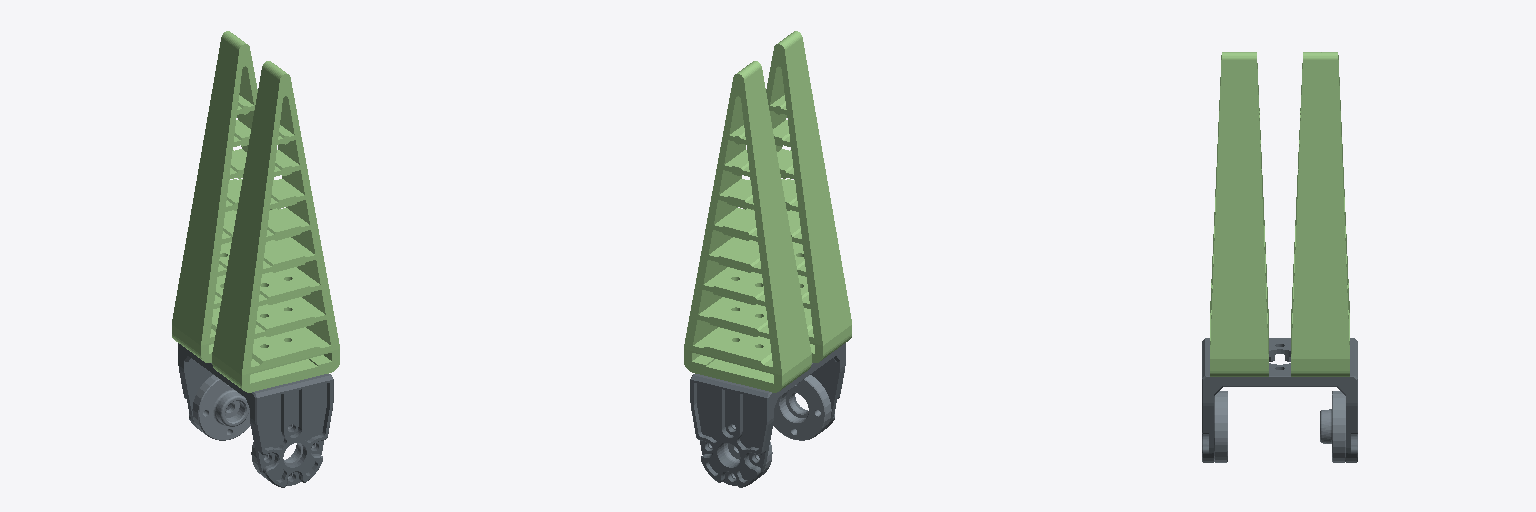
File: Fingers.obj
3 renders of one model, left to right at view 1: azimuth 30°, elevation 25°; view 2: azimuth 150°, elevation 25°; view 3: azimuth 270°, elevation 25°, orthographic.
Visible parts, largest first — view 1: mesh20, mesh67, mesh749, mesh17, mesh24, mesh125, mesh40, mesh772, mesh760, mesh54, mesh83, mesh19 (+6 smaller); view 2: mesh20, mesh66, mesh792, mesh177, mesh16, mesh24, mesh40, mesh815, mesh803, mesh54, mesh83, mesh19 (+6 smaller); view 3: mesh22, mesh269, mesh14, mesh23, mesh184, mesh344, mesh137, mesh13, mesh21.
Boxes of the visible parts, x1=… form: mesh20: x1=174, y1=38, x2=279, y2=363; mesh67: x1=201, y1=44, x2=339, y2=374; mesh749: x1=257, y1=380, x2=332, y2=486; mesh17: x1=201, y1=342, x2=339, y2=392; mesh24: x1=212, y1=308, x2=317, y2=360; mesh125: x1=199, y1=380, x2=250, y2=439; mesh40: x1=216, y1=275, x2=312, y2=328; mesh772: x1=260, y1=395, x2=283, y2=447; mesh760: x1=303, y1=383, x2=326, y2=440; mesh54: x1=219, y1=242, x2=308, y2=296; mesh83: x1=223, y1=210, x2=302, y2=264; mesh19: x1=172, y1=313, x2=242, y2=375; mesh20: x1=744, y1=38, x2=849, y2=363; mesh66: x1=684, y1=44, x2=822, y2=374; mesh792: x1=691, y1=380, x2=766, y2=486; mesh177: x1=773, y1=380, x2=824, y2=439; mesh16: x1=684, y1=342, x2=822, y2=392; mesh24: x1=706, y1=308, x2=811, y2=360; mesh40: x1=711, y1=275, x2=807, y2=328; mesh815: x1=740, y1=395, x2=763, y2=447; mesh803: x1=697, y1=383, x2=720, y2=440; mesh54: x1=715, y1=242, x2=804, y2=296; mesh83: x1=721, y1=210, x2=800, y2=264; mesh19: x1=781, y1=313, x2=851, y2=375; mesh22: x1=1210, y1=60, x2=1349, y2=347; mesh269: x1=1203, y1=377, x2=1356, y2=402; mesh14: x1=1210, y1=359, x2=1349, y2=370; mesh23: x1=1210, y1=348, x2=1349, y2=358; mesh184: x1=1215, y1=391, x2=1226, y2=462; mesh344: x1=1205, y1=338, x2=1354, y2=375; mesh137: x1=1333, y1=394, x2=1344, y2=462; mesh13: x1=1210, y1=371, x2=1349, y2=376; mesh21: x1=1222, y1=52, x2=1337, y2=59.
Bounding box in the file's own units: 0.0253 × 0.0993 × 0.0346.